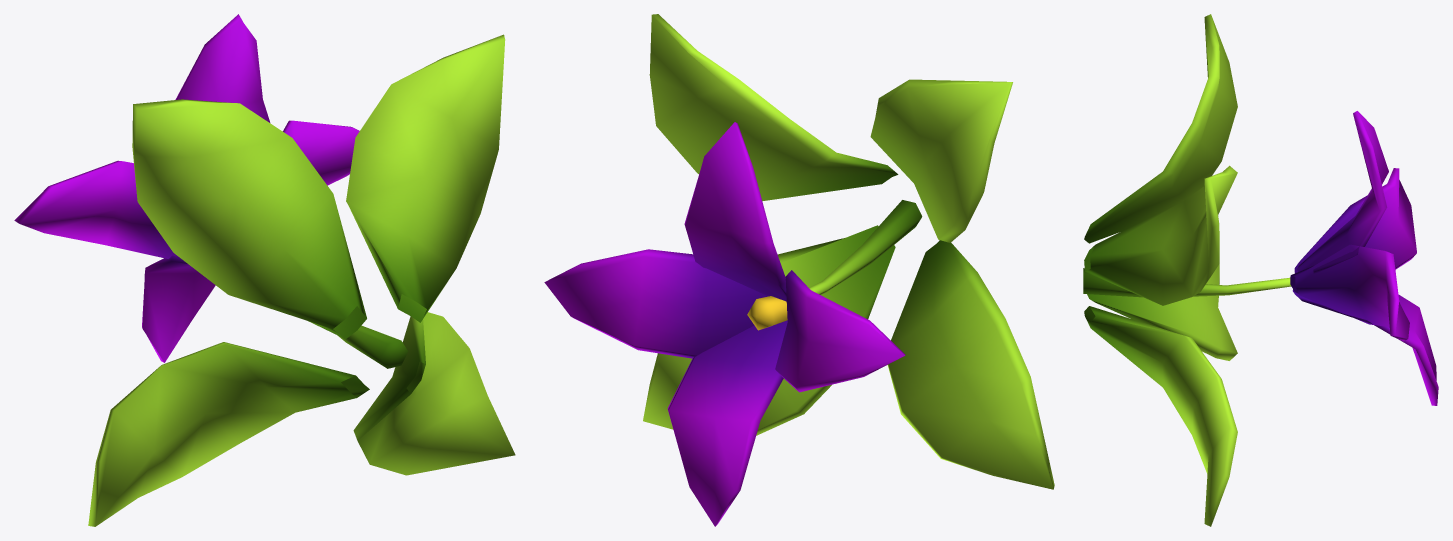
File: prplFlwr.fbx
3 views of the same model, side by side, from view 1: azimuth 30°, elevation 25°; view 2: azimuth 150°, elevation 25°; view 3: azimuth 270°, elevation 25° (orthographic). The views are drawn at different scales.
Parts seen in each view (by area): view 1: FLOWER; view 2: FLOWER; view 3: FLOWER.
Boxes of the visible parts, bbox=[...] form: FLOWER: bbox=[14, 14, 515, 526]; FLOWER: bbox=[544, 14, 1054, 526]; FLOWER: bbox=[1083, 14, 1438, 526].
Bounding box in the file's own units: 328 × 328 × 292.
